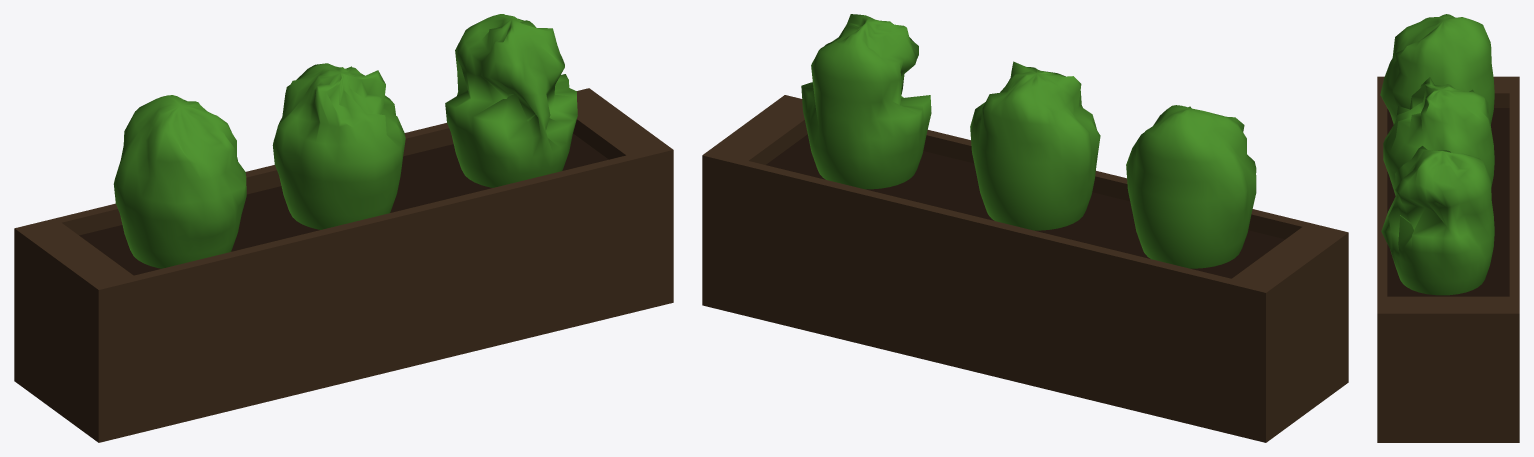
Rendered from plants.fbx.
3 renders of one model, left to right at view 1: azimuth 30°, elevation 25°; view 2: azimuth 150°, elevation 25°; view 3: azimuth 270°, elevation 25°, orthographic. The views are drawn at different scales.
Visible parts, largest first — view 1: Cube.008, Sphere.001, Sphere.003, Sphere.002; view 2: Cube.008, Sphere.001, Sphere.003, Sphere.002; view 3: Cube.008, Sphere.003, Sphere.001, Sphere.002.
Boxes of the visible parts, left/top/right/bottom form: Cube.008: left=14, top=88, right=673, bottom=442; Sphere.001: left=113, top=95, right=246, bottom=268; Sphere.003: left=445, top=14, right=577, bottom=187; Sphere.002: left=272, top=63, right=405, bottom=229; Cube.008: left=702, top=95, right=1348, bottom=442; Sphere.001: left=1126, top=105, right=1256, bottom=268; Sphere.003: left=801, top=14, right=931, bottom=189; Sphere.002: left=970, top=61, right=1100, bottom=230; Cube.008: left=1377, top=76, right=1519, bottom=442; Sphere.003: left=1381, top=146, right=1494, bottom=295; Sphere.001: left=1380, top=14, right=1494, bottom=124; Sphere.002: left=1383, top=77, right=1494, bottom=195.
Bounding box in the file's own units: 358 × 170 × 90.93.
